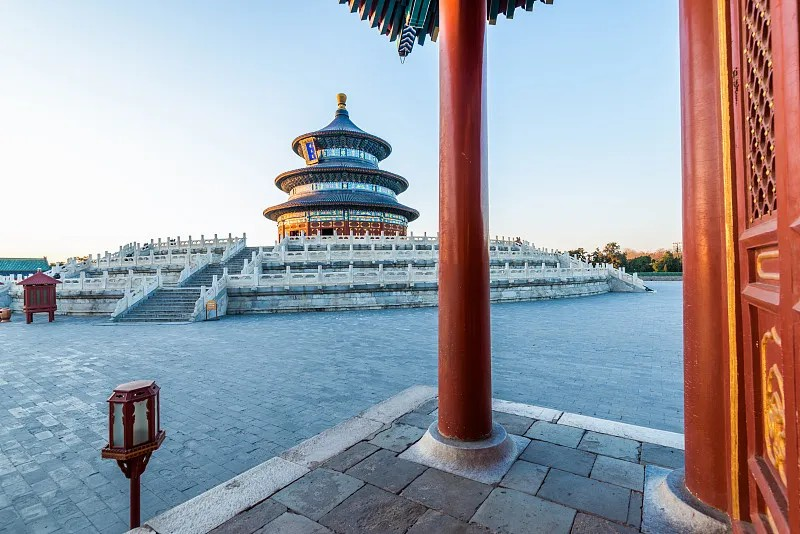Heaven: (262, 91, 420, 245)
